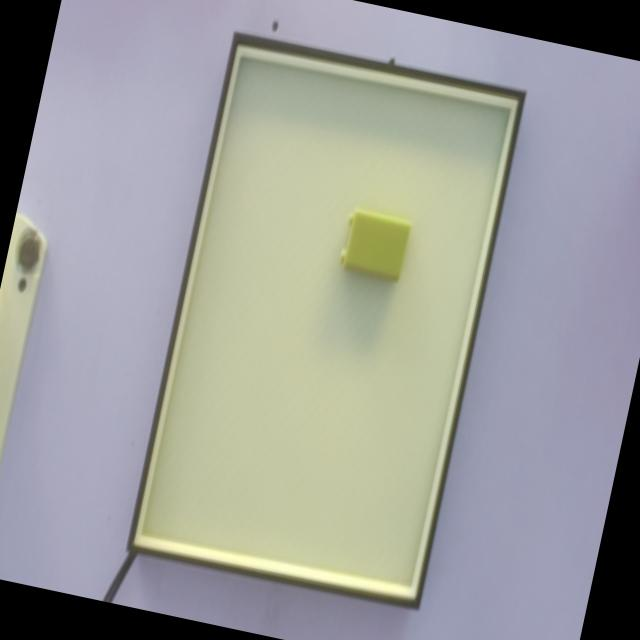bateria: (338, 207, 413, 283)
mesa: (126, 32, 526, 610)
